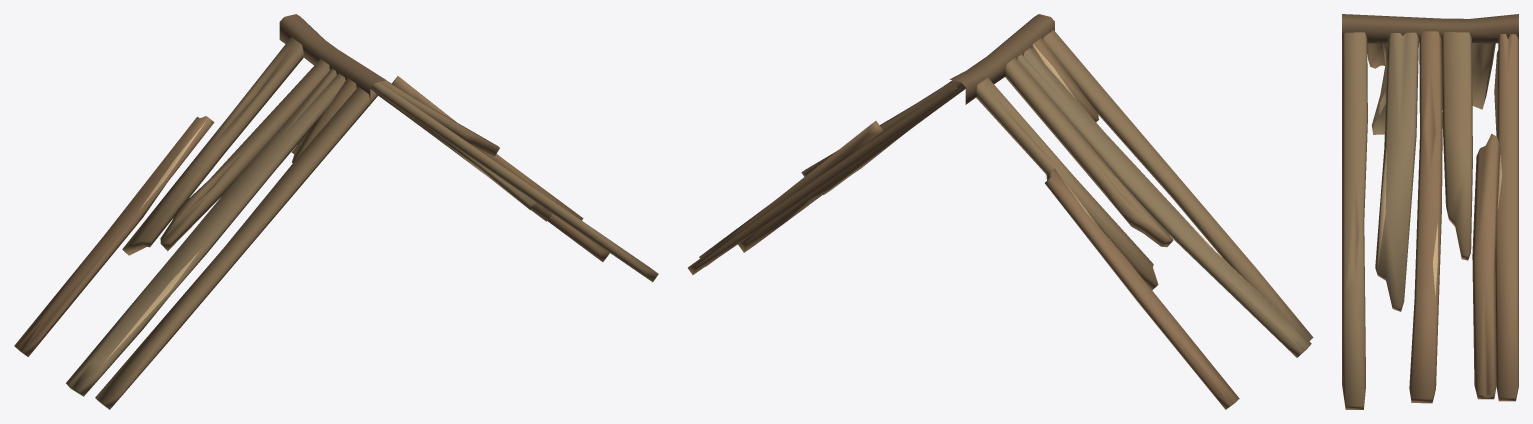
Rendered from rpgpp_av_roof_02_9x4x3_b.gltf.
3 renders of one model, left to right at view 1: azimuth 30°, elevation 25°; view 2: azimuth 150°, elevation 25°; view 3: azimuth 270°, elevation 25°, orthographic. The views are drawn at different scales.
Visible parts, largest first — view 1: rpgpp_av_roof_02_9x4x3_b; view 2: rpgpp_av_roof_02_9x4x3_b; view 3: rpgpp_av_roof_02_9x4x3_b.
Boxes of the visible parts, bbox=[...] form: rpgpp_av_roof_02_9x4x3_b: bbox=[14, 14, 658, 409]; rpgpp_av_roof_02_9x4x3_b: bbox=[688, 14, 1313, 409]; rpgpp_av_roof_02_9x4x3_b: bbox=[1342, 14, 1518, 409].
Size of the model in its own units: 0.1086 by 0.0493 by 0.03.
1 material, 1 textured.
